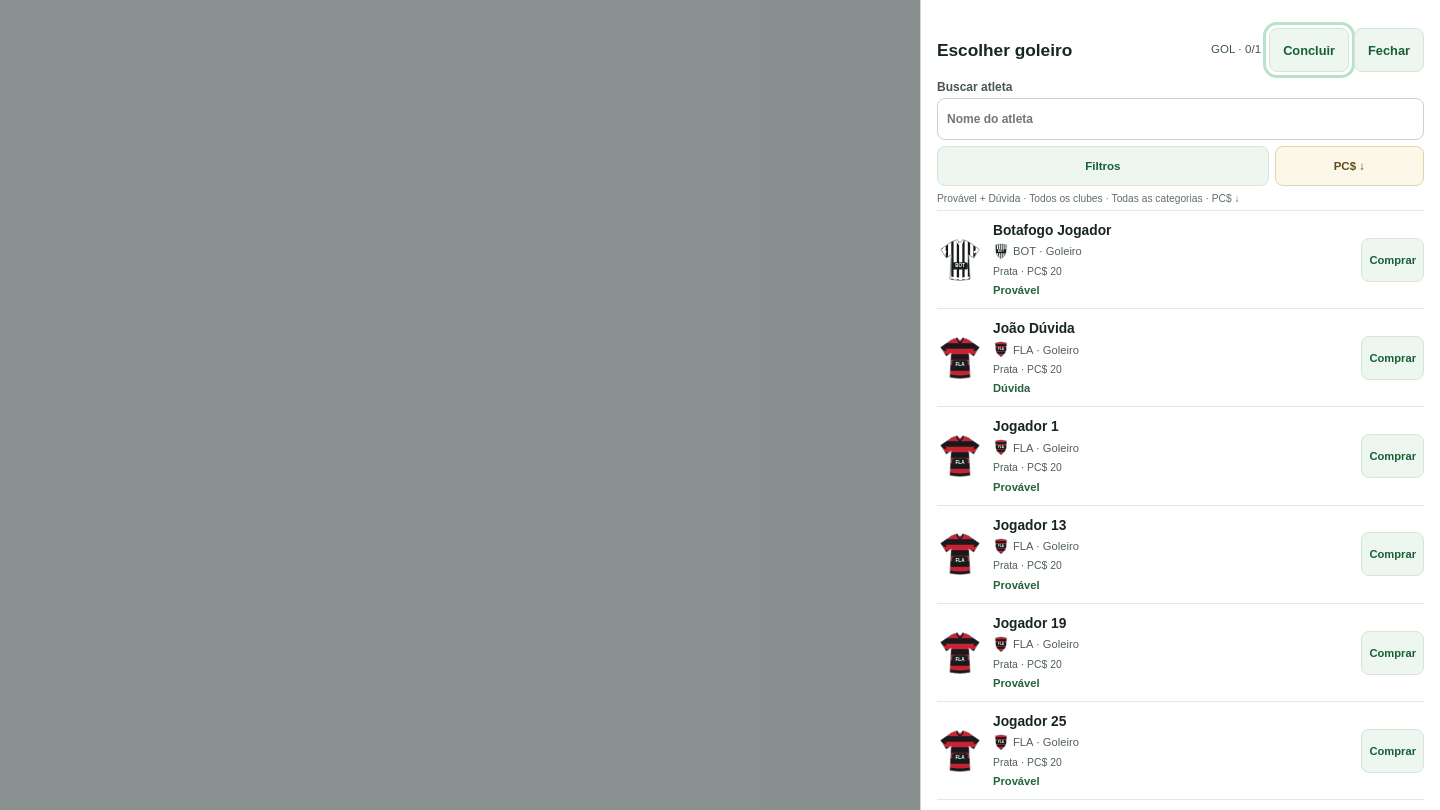
Scenario: Athlete picker › selects each opponent independently from competition matchups
Click the button "Filtros".
click(1103, 166)  # box [937,146,1269,186]
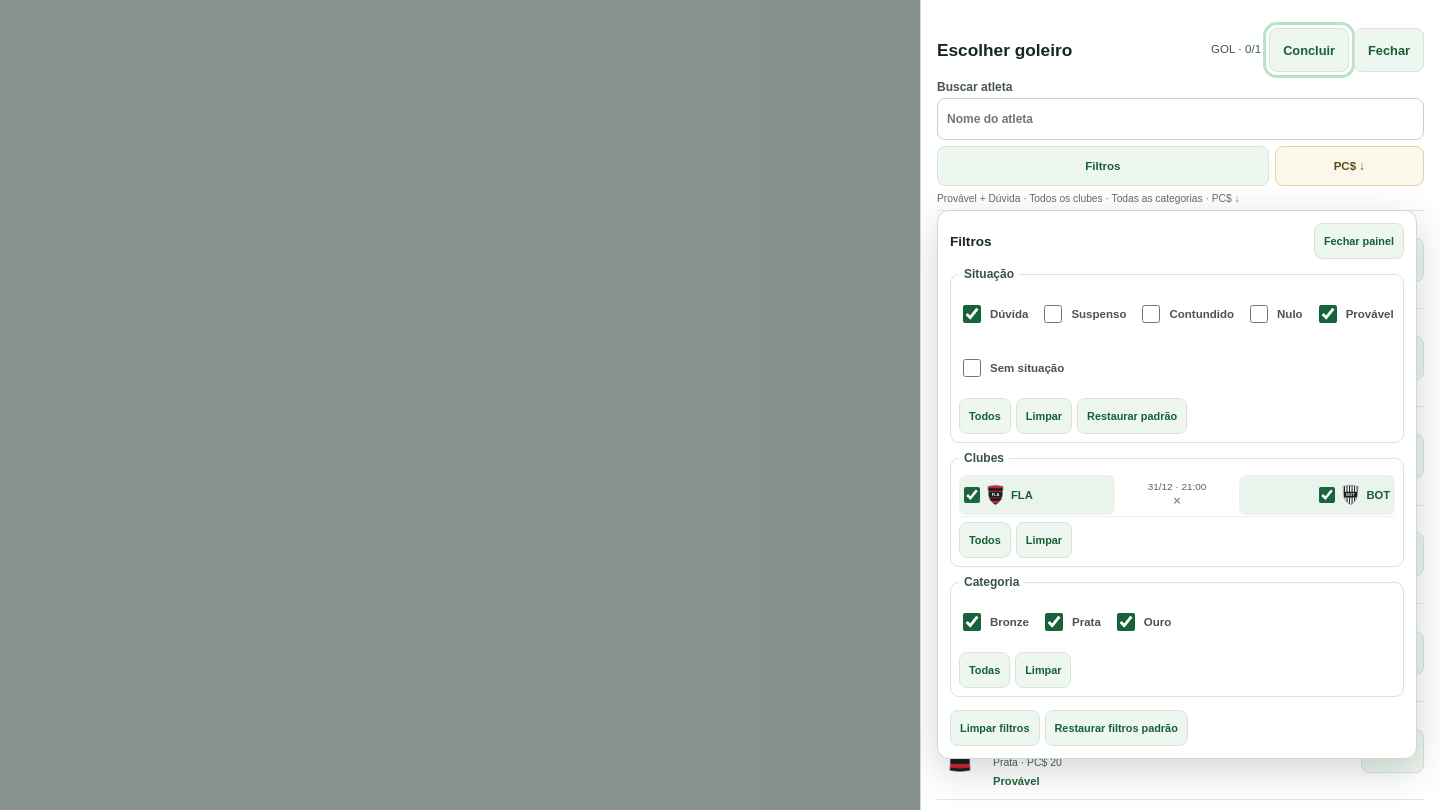
Expected: the element named "Confrontos da competição" is shown, [959,473,1395,517]
Expected: the checkbox named "Flamengo" is checked, [964,486,980,502]
Expected: the checkbox named "Botafogo" is checked
Click the checkbox named "Botafogo".
click(1327, 494)  # box [1319,486,1335,502]
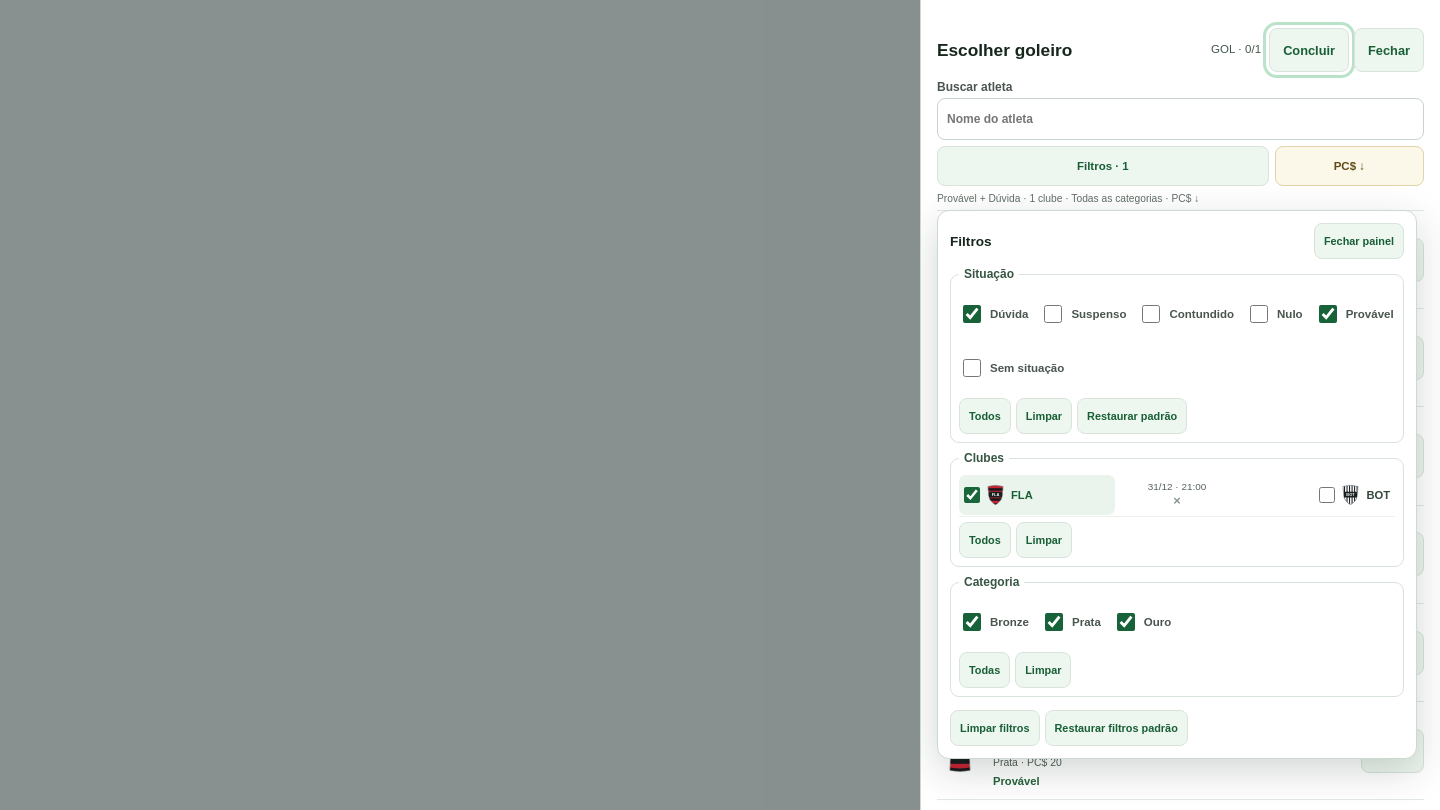
Expected: the checkbox named "Botafogo" is not checked
Expected: the checkbox named "Flamengo" is checked, [964,486,980,502]
Click the checkbox named "Botafogo".
click(1327, 494)  # box [1319,486,1335,502]
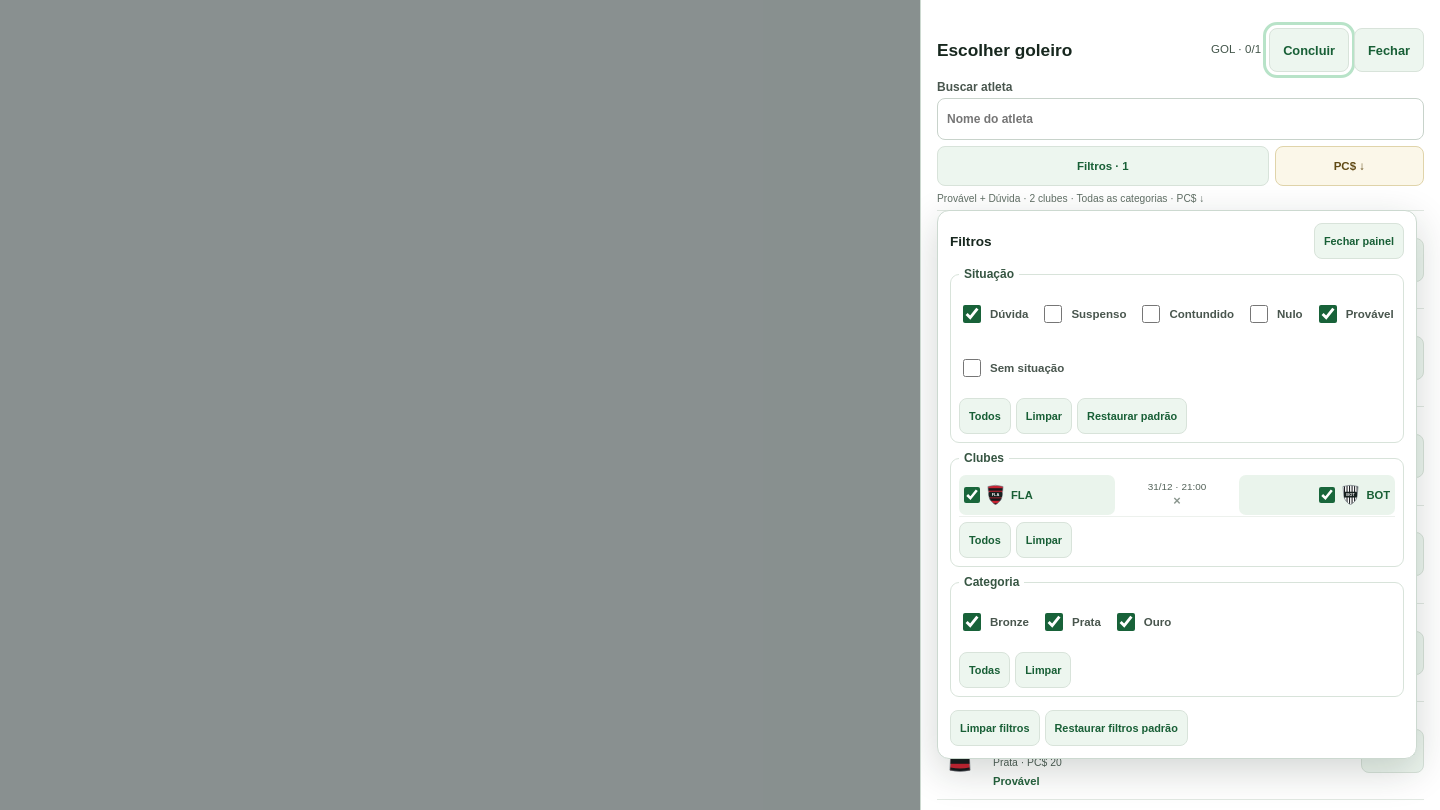
Expected: the checkbox named "Botafogo" is checked, [1319,486,1335,502]
Expected: the checkbox named "Flamengo" is checked, [964,486,980,502]
Click the button "Limpar" below "31/12 · 21:00".
click(1044, 540)  # box [1016,522,1072,558]
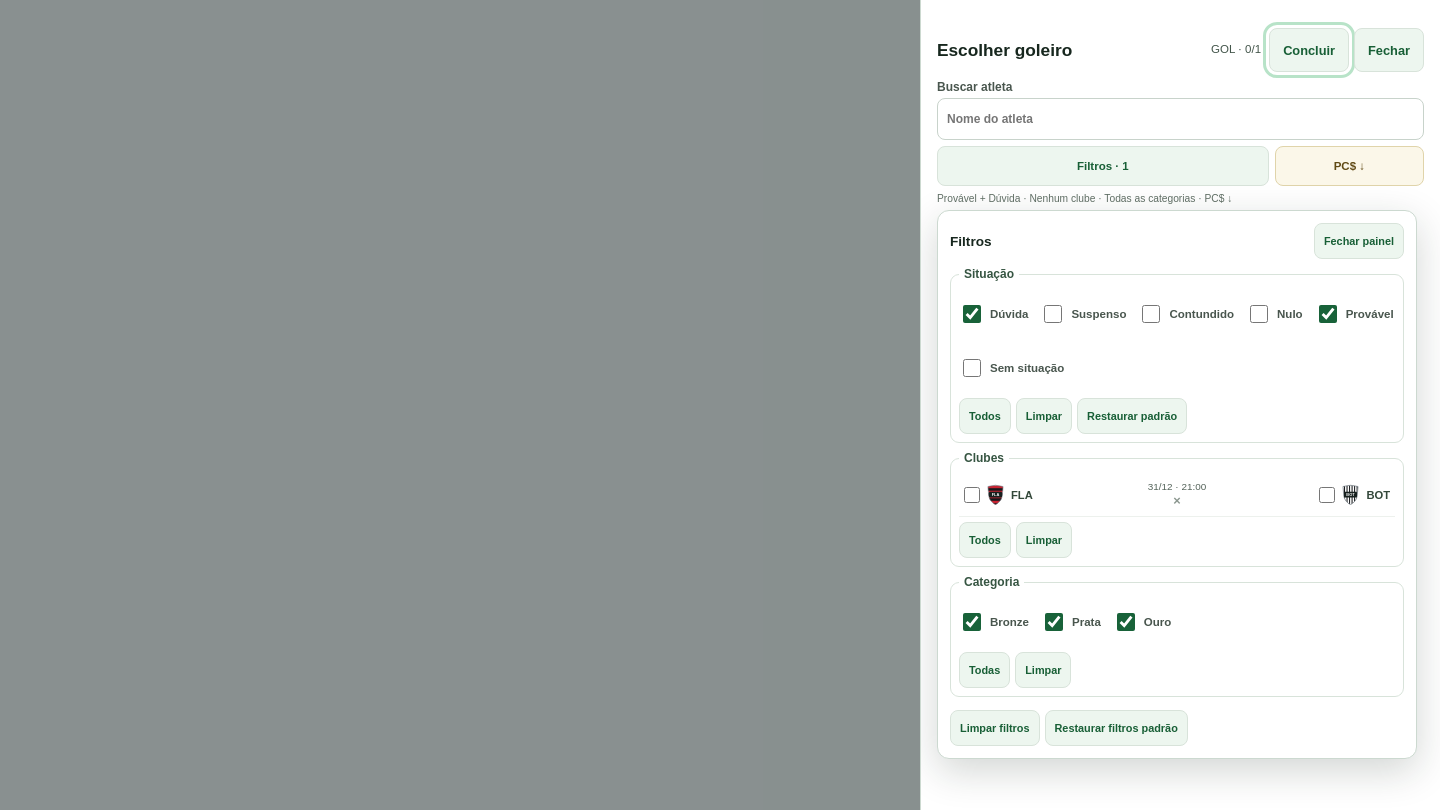
Expected: the checkbox named "Botafogo" is not checked, [1319,486,1335,502]
Expected: the checkbox named "Flamengo" is not checked, [964,486,980,502]
Click the button "Todos" below "31/12 · 21:00".
click(985, 540)  # box [959,522,1011,558]
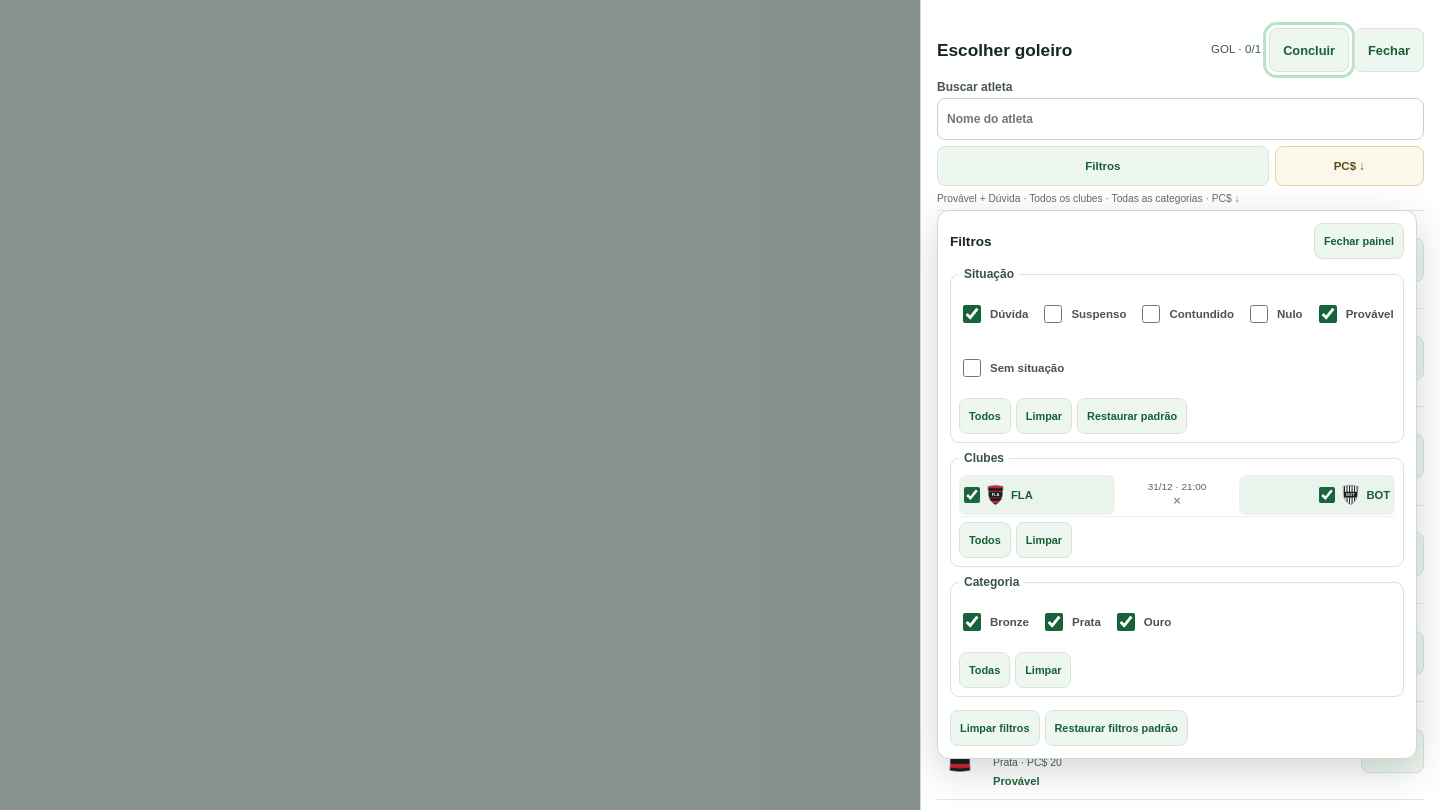
Expected: the checkbox named "Botafogo" is checked, [1319,486,1335,502]
Expected: the checkbox named "Flamengo" is checked, [964,486,980,502]
